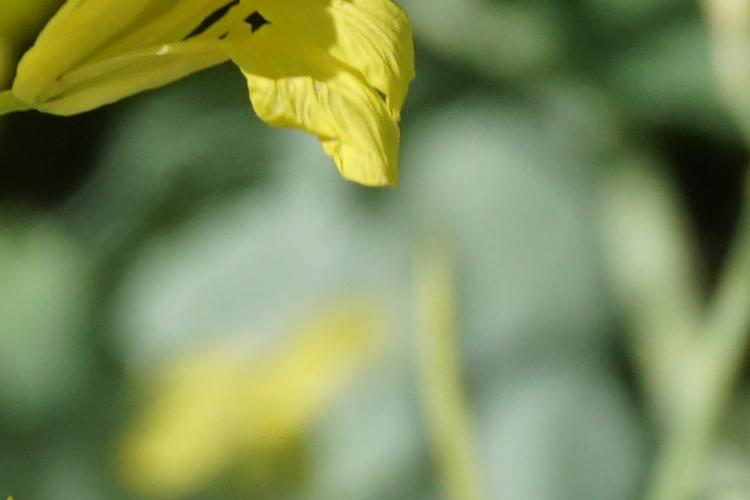yellow: (21, 7, 421, 213)
